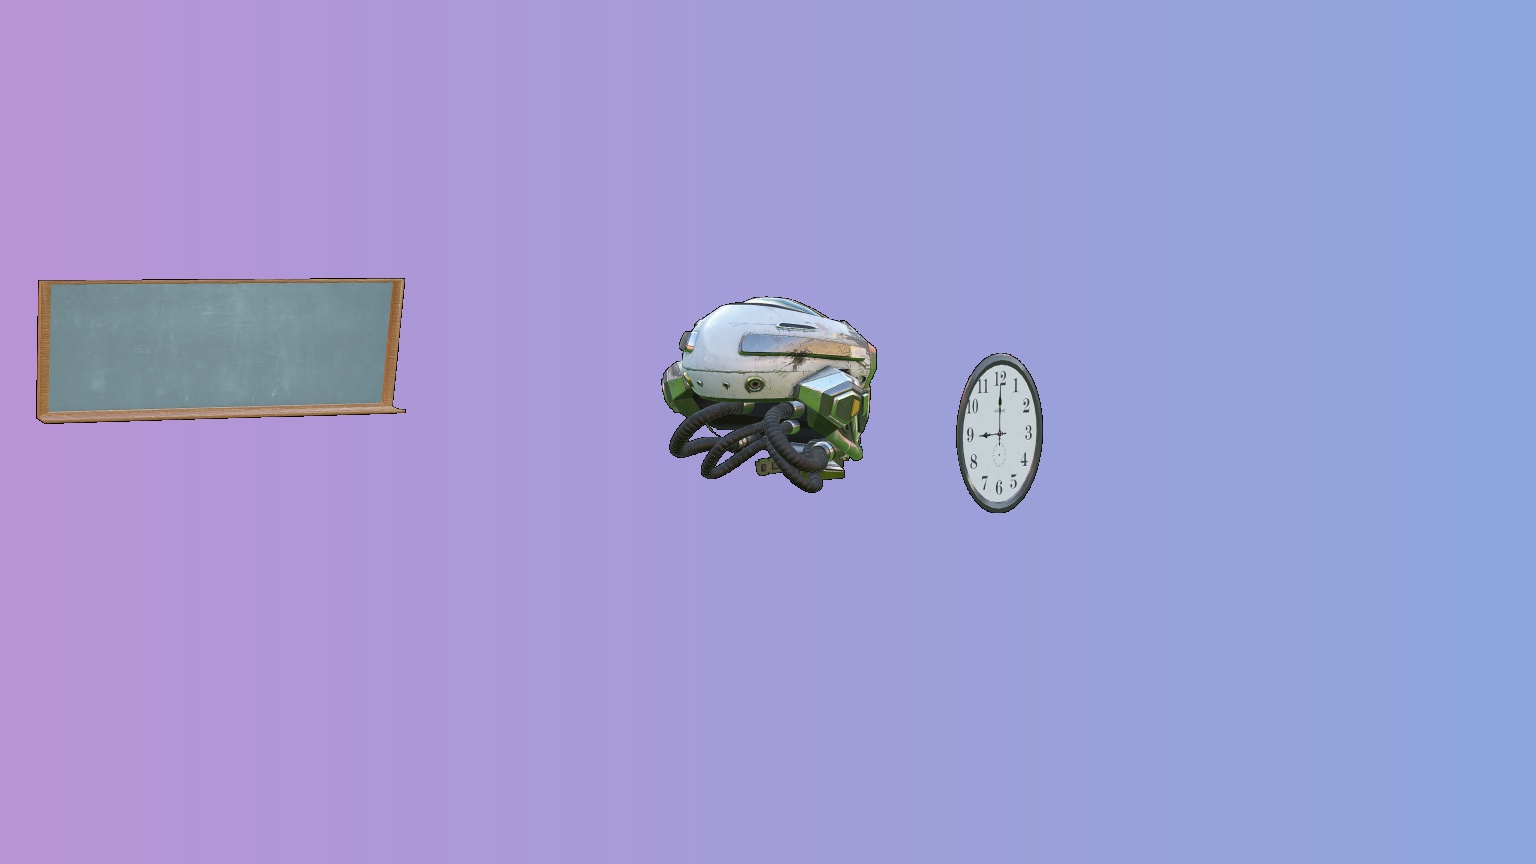casco: (661, 296, 877, 493)
pisarra: (36, 279, 406, 424)
reloj: (956, 352, 1043, 514)
